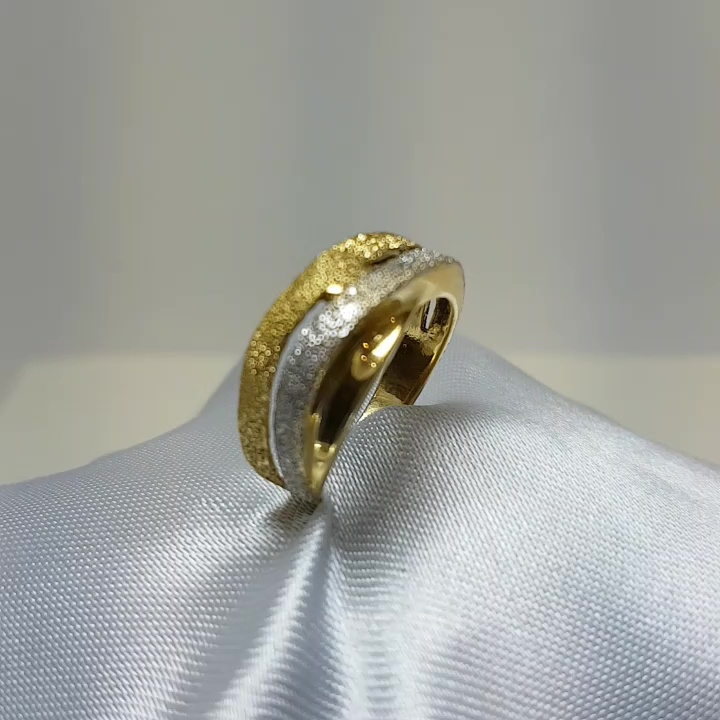Ring 5: (237, 219, 472, 529)
